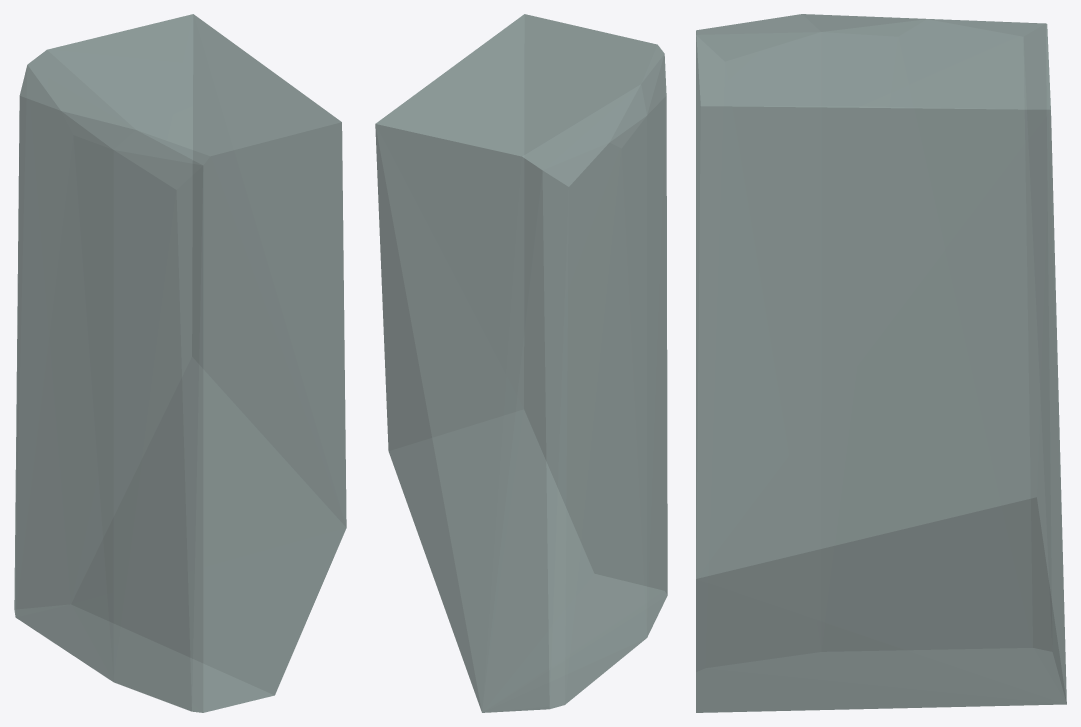
3 views of the same model, side by side, from view 1: azimuth 30°, elevation 25°; view 2: azimuth 150°, elevation 25°; view 3: azimuth 270°, elevation 25° (orthographic). The views are drawn at different scales.
Parts seen in each view (by area): view 1: Shape_IndexedFaceSet.010_Shape_IndexedFaceSet.9096; view 2: Shape_IndexedFaceSet.010_Shape_IndexedFaceSet.9096; view 3: Shape_IndexedFaceSet.010_Shape_IndexedFaceSet.9096.
Part boxes in pixels (x1=…): Shape_IndexedFaceSet.010_Shape_IndexedFaceSet.9096: x1=14, y1=14, x2=346, y2=712; Shape_IndexedFaceSet.010_Shape_IndexedFaceSet.9096: x1=375, y1=14, x2=667, y2=712; Shape_IndexedFaceSet.010_Shape_IndexedFaceSet.9096: x1=696, y1=14, x2=1066, y2=712.
Bounding box in the file's own units: 0.078 × 0.2277 × 0.1154.
